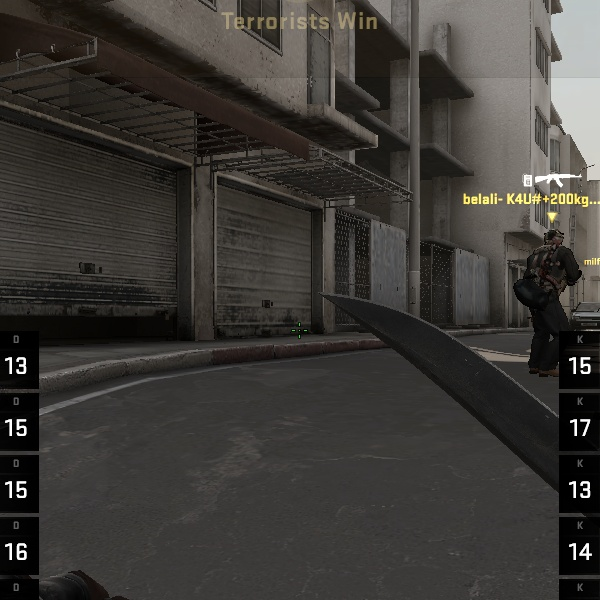t_body: (501, 224, 594, 385)
t_head: (537, 223, 569, 255)
